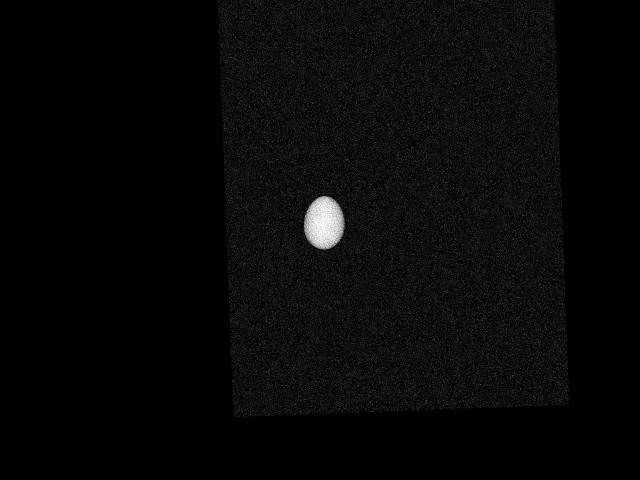egg: (303, 195, 346, 250)
